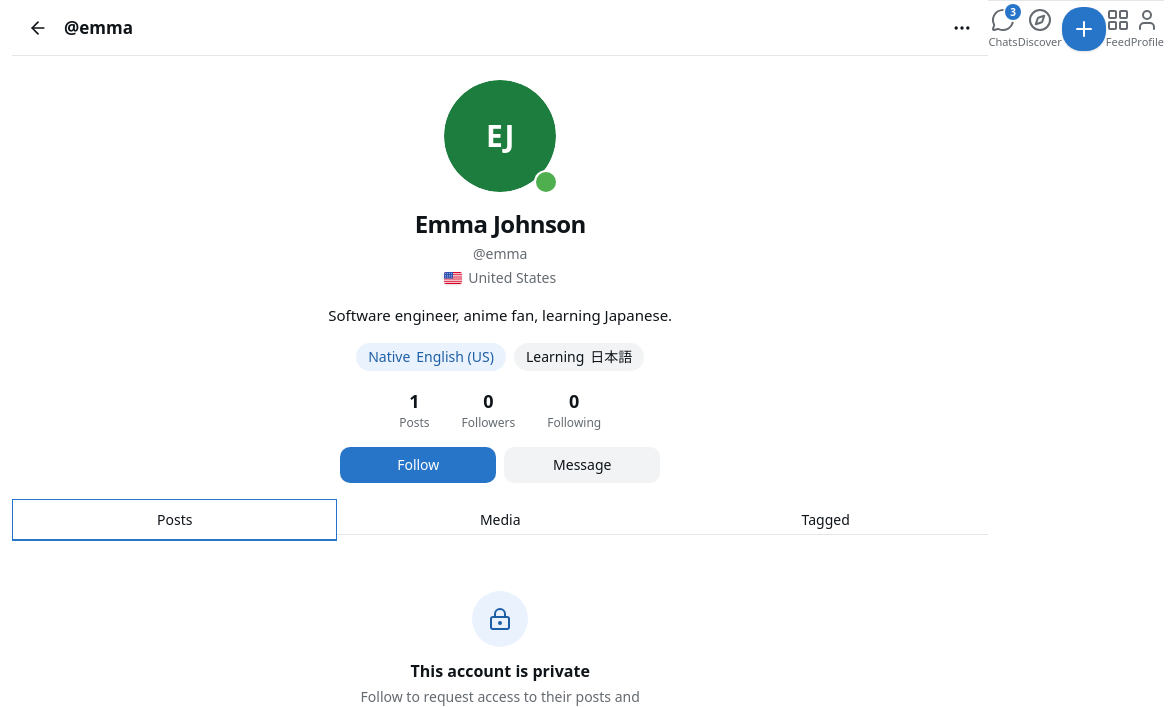
it: profile › requests access to a private profile and can cancel the request
The width and height of the screenshot is (1176, 707).
Click the button "Follow": [418, 464] box [340, 446, 496, 482]
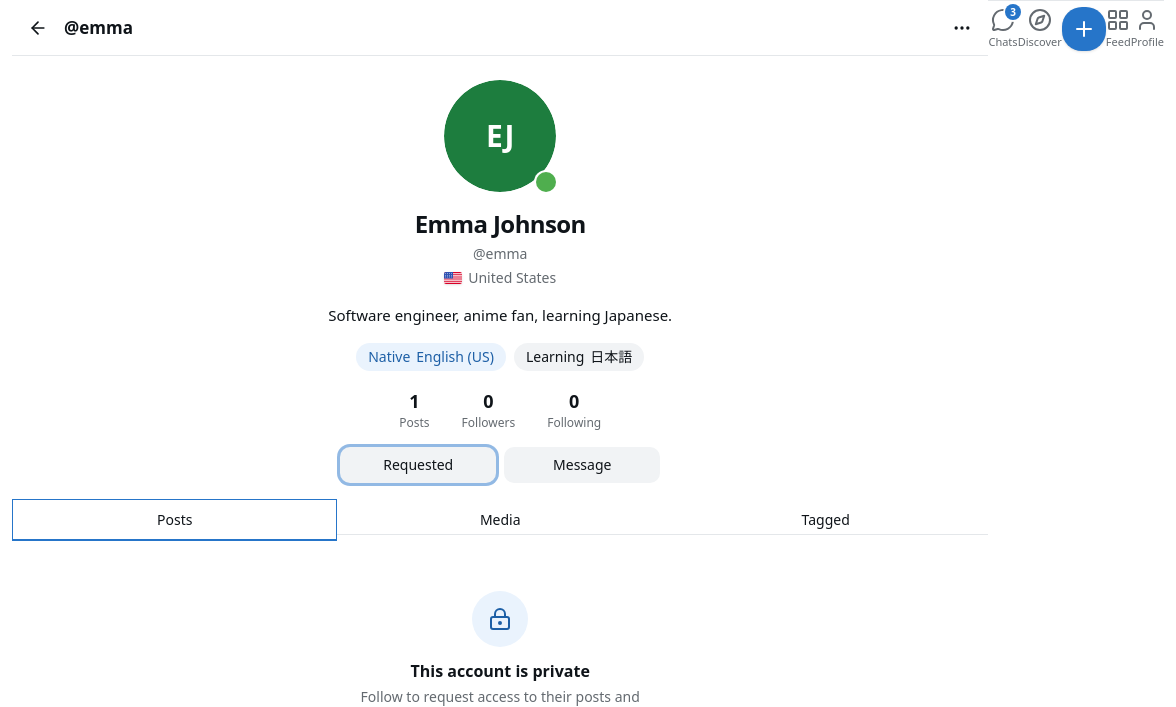
Expected: the button "Requested" is shown
Click the button "Requested": [418, 464] box [340, 446, 496, 482]
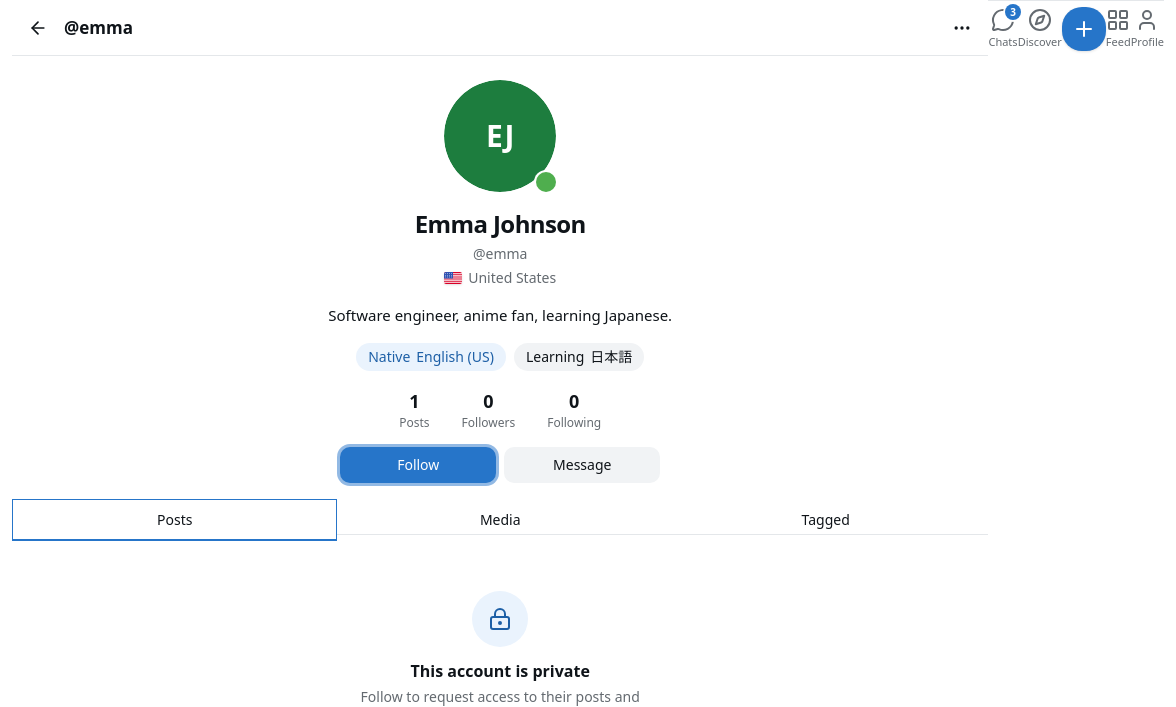
Expected: the button "Follow" is shown, [340, 446, 496, 482]
